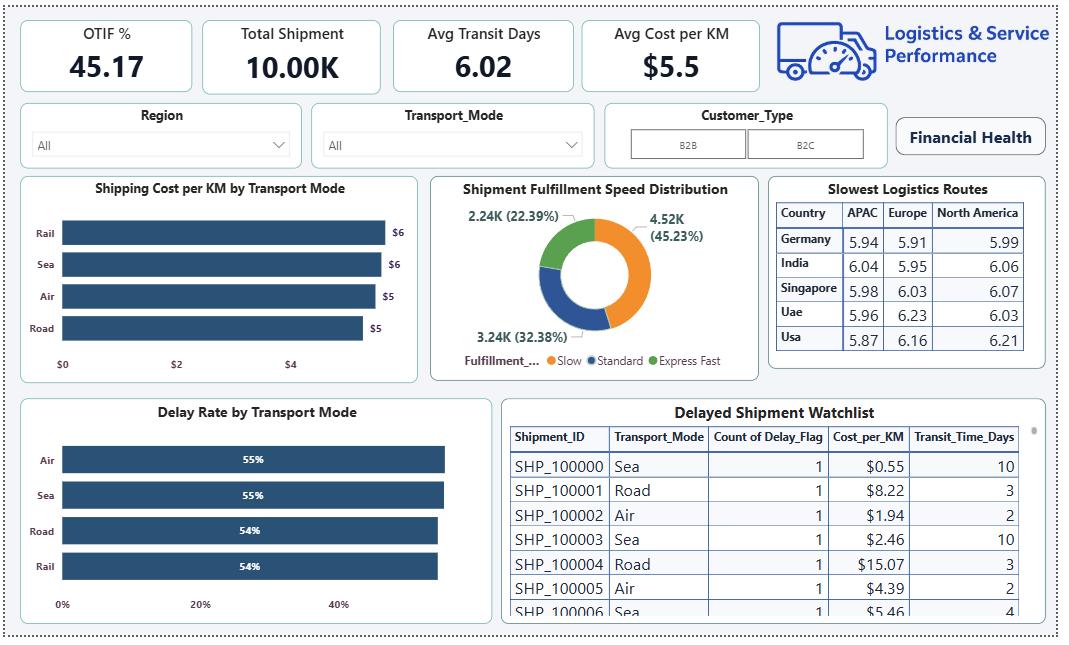

What the dashboard file says about the page in this screenshot:
{"tool":"powerbi","page":{"name":"Logistics  And  service Performance ","canvas":[1205,720],"ordinal":0},"visuals":[{"type":"card","title":"OTIF %","fields":{"Values":["Dashboard_1_dax.OTIF %"]},"box":[17.5,15,197.5,82.5],"z":0},{"type":"card","title":"Total Shipment","fields":{"Values":["CountNonNull(shipment.Shipment_ID)"]},"box":[226,15,205,85],"z":1000},{"type":"card","title":"Avg Transit Days","fields":{"Values":["Avg(shipment.Transit Days Fixed)"]},"box":[445,15,207,83],"z":2000},{"type":"card","title":"Avg Cost per KM","fields":{"Values":["Avg(shipment.Cost_per_KM)"]},"box":[661,15,205,83],"z":3000},{"type":"clusteredBarChart","title":"Delay Rate by Transport Mode","fields":{"Category":["shipment.Transport_Mode"],"Y":["Avg(shipment.Delay_Flag)"]},"box":[17.5,448.8,541.2,258.8],"z":4000},{"type":"donutChart","title":"Shipment Fulfillment Speed Distribution","fields":{"Category":["shipment.Fulfillment_Speed"],"Y":["CountNonNull(shipment.Shipment_ID)"]},"box":[487.5,193.8,377.5,235],"z":5000},{"type":"pivotTable","title":"Slowest Logistics Routes","fields":{"Rows":["warehouse.Country"],"Columns":["customer.Region"],"Values":["Avg(shipment.Transit_Time_Days)"]},"box":[875,193.8,318.8,221.2],"z":6000},{"type":"clusteredBarChart","title":"Shipping Cost per KM by Transport Mode","fields":{"Category":["shipment.Transport_Mode"],"Y":["Avg(shipment.Cost_per_KM)"]},"box":[17.5,193.8,456.2,237.5],"z":7000},{"type":"tableEx","title":"Delayed Shipment Watchlist","fields":{"Values":["shipment.Shipment_ID","shipment.Transport_Mode","CountNonNull(shipment.Delay_Flag)","shipment.Cost_per_KM","shipment.Transit_Time_Days"]},"box":[568.8,448.8,625,258.8],"z":8000},{"type":"image","box":[875,15,330,70],"z":9000},{"type":"slicer","title":"Region","fields":{"Values":["customer.Region"]},"box":[17,110,323,75],"z":10000},{"type":"slicer","title":"Transport_Mode","fields":{"Values":["shipment.Transport_Mode"]},"box":[351.2,110,325,75],"z":11000},{"type":"slicer","title":"Customer_Type","fields":{"Values":["customer.Customer_Type"]},"box":[687.5,110,325,75],"z":12000},{"type":"actionButton","box":[1021.2,126.2,172.5,43.8],"z":13000}]}

Visuals, with their boxes in screenshot pixels (x1, y1, x2, y2), scaled from the page's 1205x720 canvas onto the 1069x645 screenshot:
"OTIF %" card: rect(16, 13, 191, 87)
"Total Shipment" card: rect(200, 13, 382, 90)
"Avg Transit Days" card: rect(395, 13, 578, 88)
"Avg Cost per KM" card: rect(586, 13, 768, 88)
"Delay Rate by Transport Mode" clusteredBarChart: rect(16, 402, 496, 634)
"Shipment Fulfillment Speed Distribution" donutChart: rect(432, 174, 767, 384)
"Slowest Logistics Routes" pivotTable: rect(776, 174, 1059, 372)
"Shipping Cost per KM by Transport Mode" clusteredBarChart: rect(16, 174, 420, 386)
"Delayed Shipment Watchlist" tableEx: rect(505, 402, 1059, 634)
image: rect(776, 13, 1068, 76)
"Region" slicer: rect(15, 99, 302, 166)
"Transport_Mode" slicer: rect(312, 99, 600, 166)
"Customer_Type" slicer: rect(610, 99, 898, 166)
actionButton: rect(906, 113, 1059, 152)
